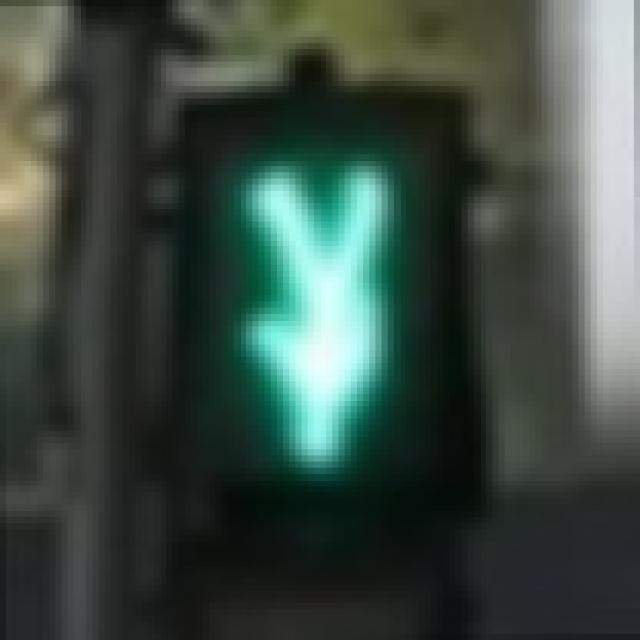green_light: (166, 98, 449, 530)
